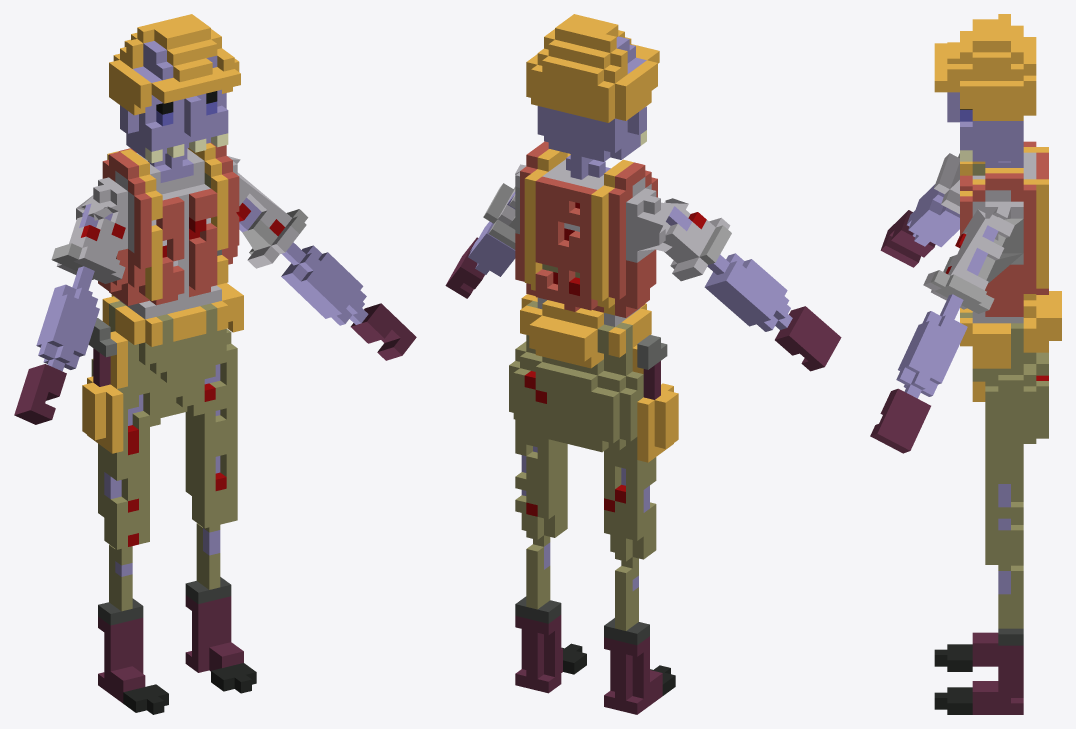
The model's file is zombie_worker.glb.
The picture shows the model from 3 angles, left to right: view 1: azimuth 30°, elevation 25°; view 2: azimuth 150°, elevation 25°; view 3: azimuth 270°, elevation 25°; orthographic projection.
Visible parts, largest first — view 1: zombie_worker; view 2: zombie_worker; view 3: zombie_worker.
Boxes of the visible parts, box(x1,y1,x2,y2) form: zombie_worker: box(14, 14, 416, 714); zombie_worker: box(445, 14, 841, 714); zombie_worker: box(870, 14, 1061, 714).
Bounding box in the file's own units: 3.47 × 5.7 × 1.51.
1 material, 1 textured.
